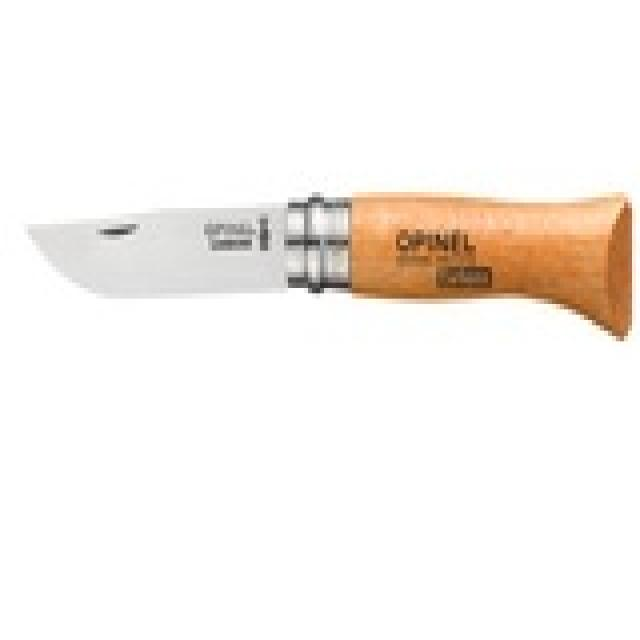Knife: (7, 172, 635, 348)
